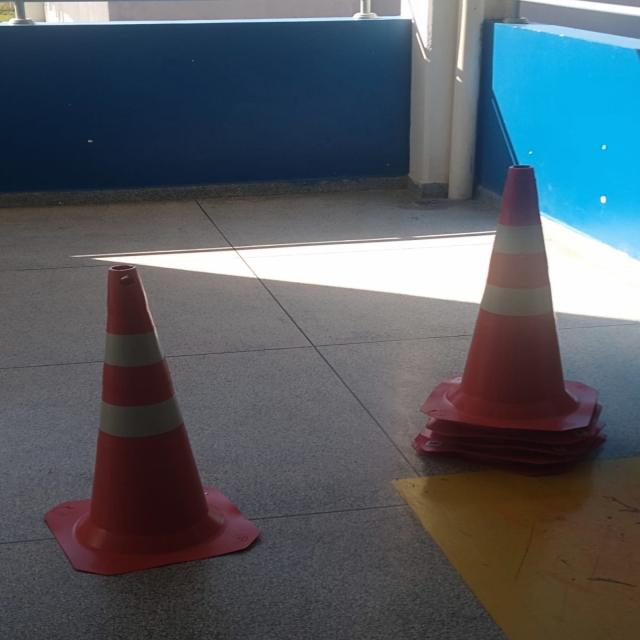cone: (42, 263, 264, 575), (413, 164, 612, 467)
